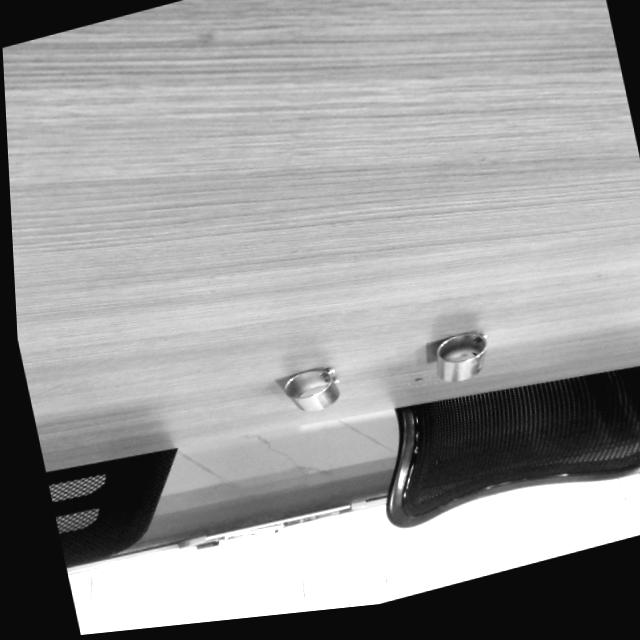Co_Lon: (434, 331, 488, 382)
Co_Nho: (280, 363, 342, 417)
